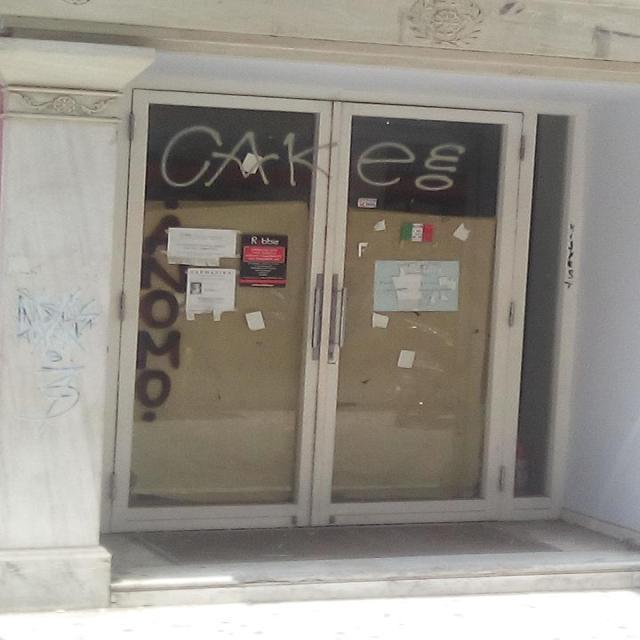nonspitting: (160, 125, 466, 190), (137, 200, 187, 423)
